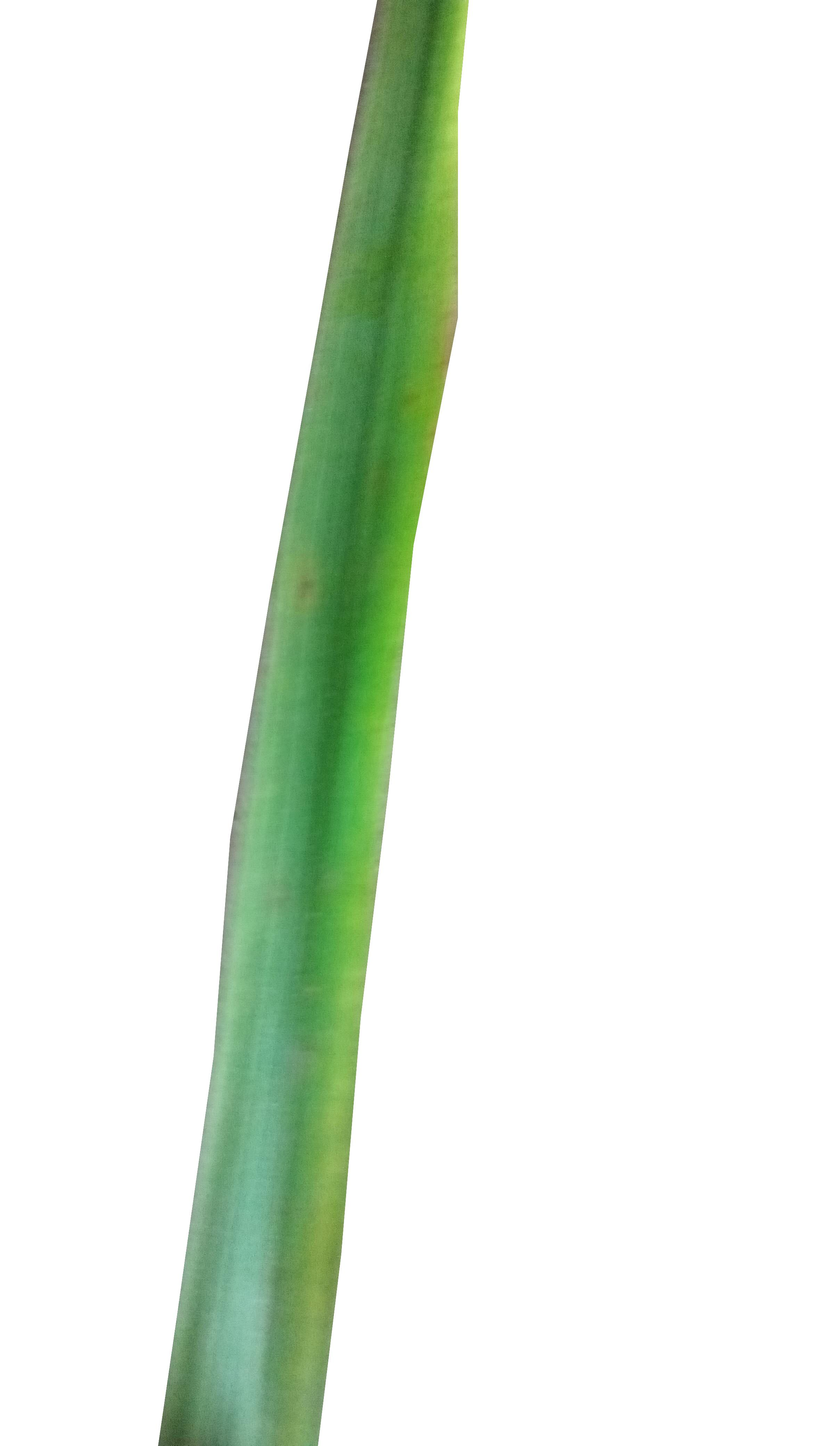Tungro: (340, 3, 466, 511)
